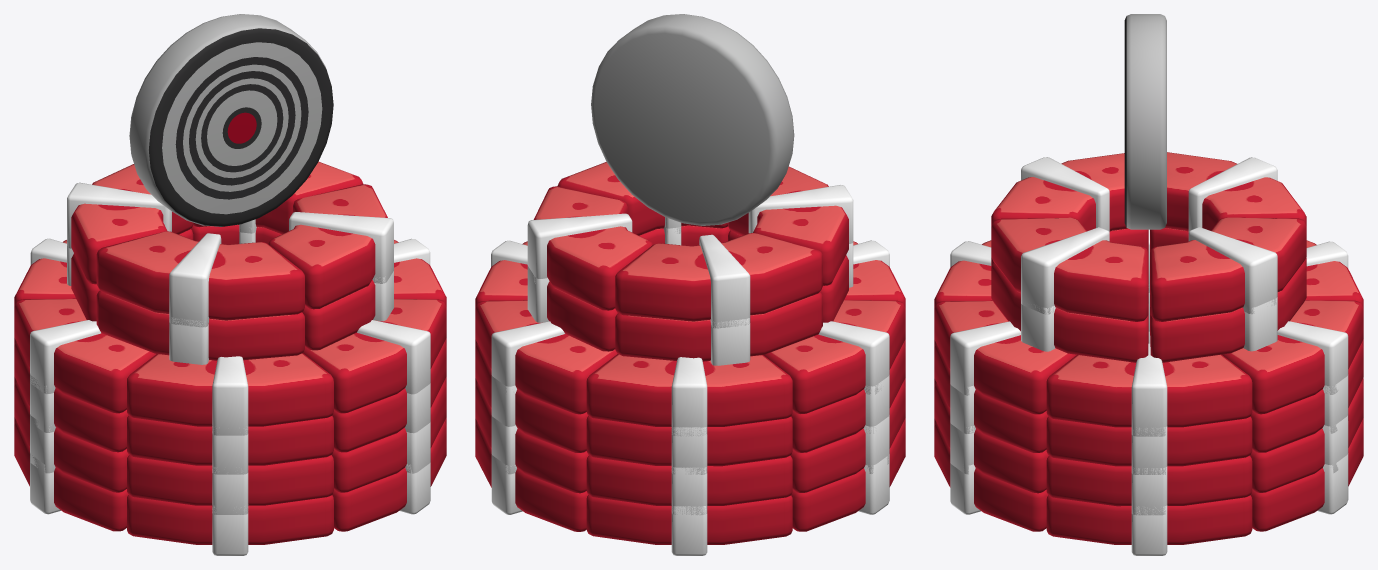
File: collectible_3.fbx
3 views of the same model, side by side, from view 1: azimuth 30°, elevation 25°; view 2: azimuth 150°, elevation 25°; view 3: azimuth 270°, elevation 25° (orthographic).
Parts seen in each view (by area): view 1: Cylinder.005, Cube.007, Cube.018, Cube.008, Cube.019, Cube.017, Cube.012, Cube.030, Cube.038, Cube.023, Cube.010, Cube.037 (+11 smaller); view 2: Cylinder.005, Cube.010, Cube.020, Cube.009, Cube.019, Cube.015, Cube.011, Cube.028, Cube.036, Cube.021, Cube.007, Cube.037 (+11 smaller); view 3: Cube.016, Cube.008, Cube.009, Cube.017, Cube.015, Cylinder.005, Cube.032, Cube.033, Cube.025, Cube.010, Cube.007, Cube.014 (+11 smaller).
Boxes of the visible parts, bbox=[...] form: Cylinder.005: bbox=[129, 14, 333, 226]; Cube.007: bbox=[96, 231, 304, 327]; Cube.018: bbox=[127, 353, 333, 435]; Cube.008: bbox=[268, 184, 393, 309]; Cube.019: bbox=[14, 298, 156, 413]; Cube.017: bbox=[303, 299, 446, 413]; Cube.012: bbox=[96, 290, 304, 364]; Cube.030: bbox=[127, 455, 333, 514]; Cube.038: bbox=[127, 495, 333, 555]; Cube.023: bbox=[127, 415, 333, 474]; Cube.010: bbox=[67, 164, 193, 284]; Cube.037: bbox=[14, 421, 128, 531]; Cylinder.005: bbox=[591, 14, 794, 225]; Cube.010: bbox=[615, 233, 822, 328]; Cube.020: bbox=[586, 354, 792, 436]; Cube.009: bbox=[527, 186, 652, 310]; Cube.019: bbox=[763, 300, 905, 413]; Cube.015: bbox=[475, 300, 617, 414]; Cube.011: bbox=[615, 292, 822, 365]; Cube.028: bbox=[586, 455, 792, 515]; Cube.036: bbox=[586, 495, 792, 555]; Cube.021: bbox=[586, 416, 792, 474]; Cube.007: bbox=[728, 166, 853, 285]; Cube.037: bbox=[791, 422, 905, 531]; Cube.016: bbox=[1046, 343, 1252, 436]; Cube.008: bbox=[991, 217, 1148, 321]; Cube.009: bbox=[1150, 217, 1306, 321]; Cube.017: bbox=[934, 300, 1076, 414]; Cube.015: bbox=[1222, 300, 1363, 414]; Cylinder.005: bbox=[1124, 14, 1166, 229]; Cube.032: bbox=[1046, 455, 1252, 515]; Cube.033: bbox=[1046, 495, 1252, 555]; Cube.025: bbox=[1046, 416, 1252, 474]; Cube.010: bbox=[1165, 152, 1306, 232]; Cube.007: bbox=[991, 153, 1127, 232]; Cube.014: bbox=[1150, 262, 1306, 362].
Bounding box in the file's own units: 501 × 549 × 486.
